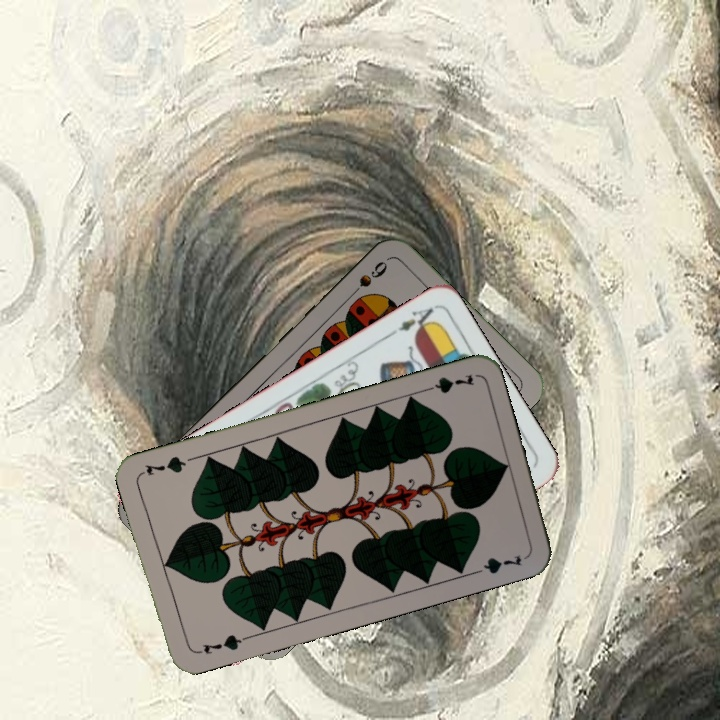EA: (384, 303, 437, 340)
G7: (192, 630, 250, 657), (418, 370, 477, 396)
S9: (344, 256, 391, 302)
